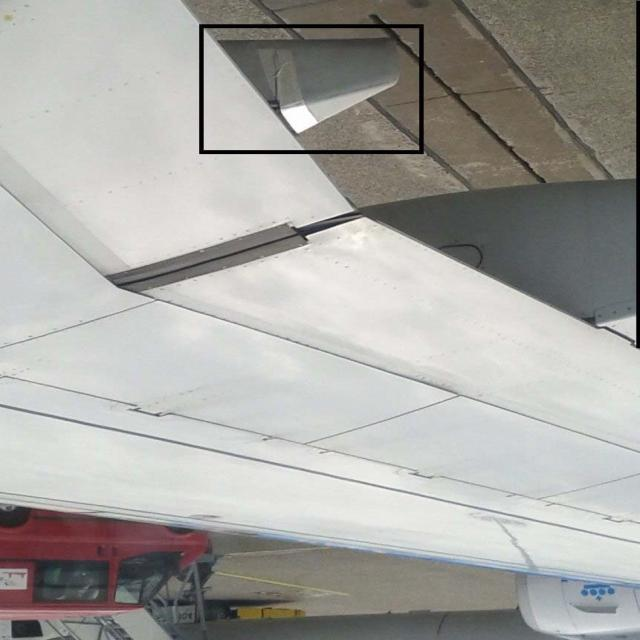crack: (271, 59, 290, 102)
